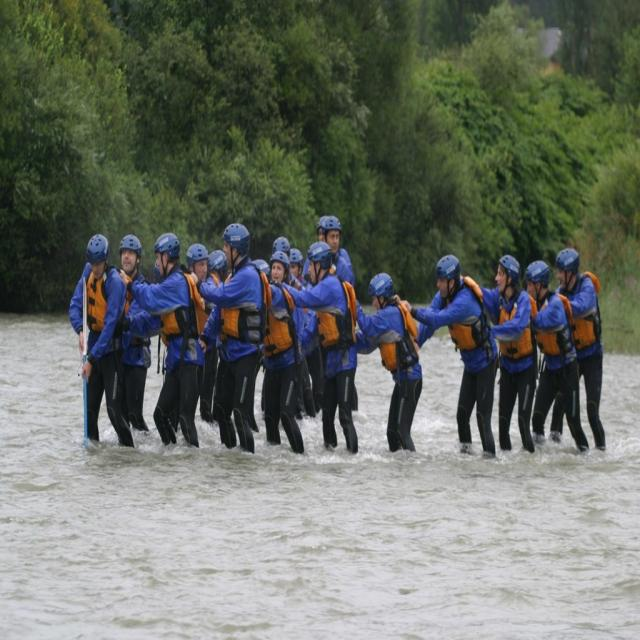helmet: (300, 239, 348, 284), (296, 254, 336, 304), (484, 259, 524, 308), (210, 243, 252, 288), (551, 257, 585, 310), (148, 252, 187, 296), (428, 266, 463, 313), (109, 250, 145, 294), (365, 287, 405, 325), (278, 258, 310, 299), (81, 255, 119, 289), (199, 267, 233, 304), (264, 252, 300, 284), (524, 266, 549, 310), (179, 261, 209, 297), (263, 269, 292, 299)
safety_vest: (549, 261, 619, 376), (420, 278, 496, 364), (358, 279, 426, 372), (480, 284, 552, 362), (523, 287, 588, 371), (293, 272, 357, 354), (207, 280, 270, 362), (254, 289, 305, 368), (146, 280, 198, 341), (106, 282, 150, 351), (190, 275, 227, 339), (75, 280, 113, 342)
